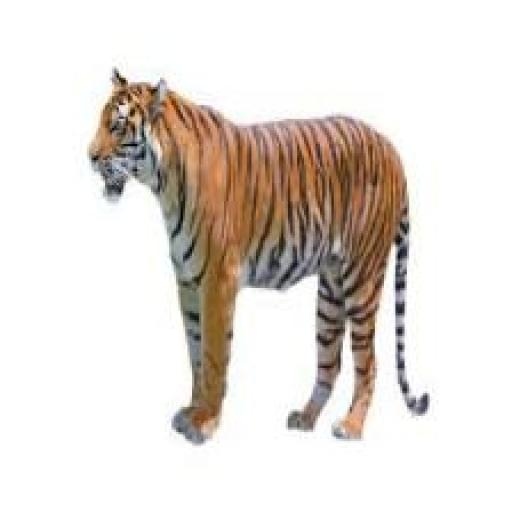Tiger: (89, 70, 428, 442)
